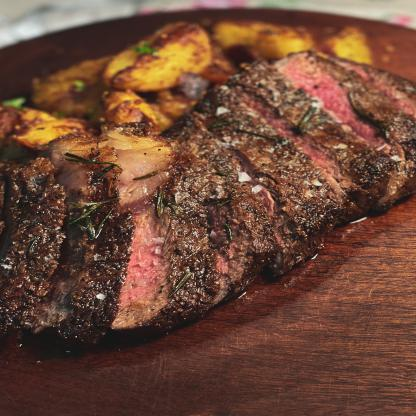Carne: (261, 47, 409, 202), (214, 80, 352, 239), (55, 148, 153, 339), (151, 126, 241, 306), (0, 164, 69, 344)
